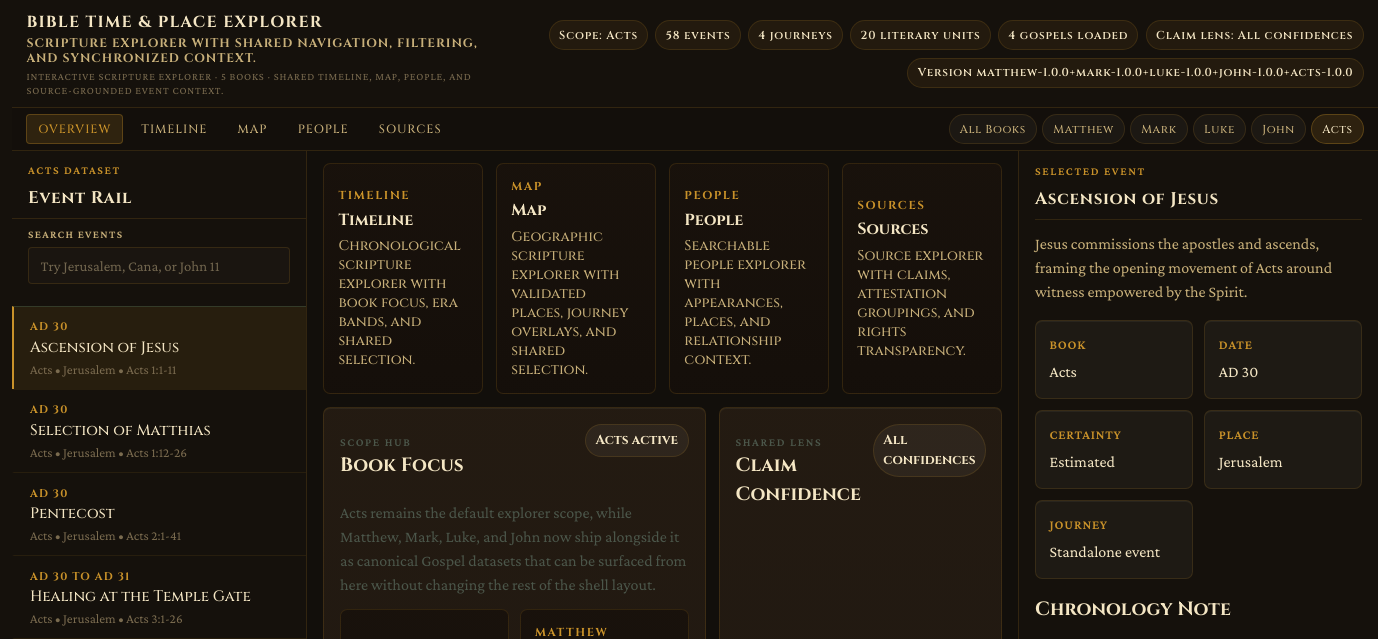
Scenario: App › filters the event rail by location and keeps filtering deterministic
The image size is (1378, 639).
Type "Malta" into the search field labelled "Search events". click: (159, 266)
box: [28,247,290,284]
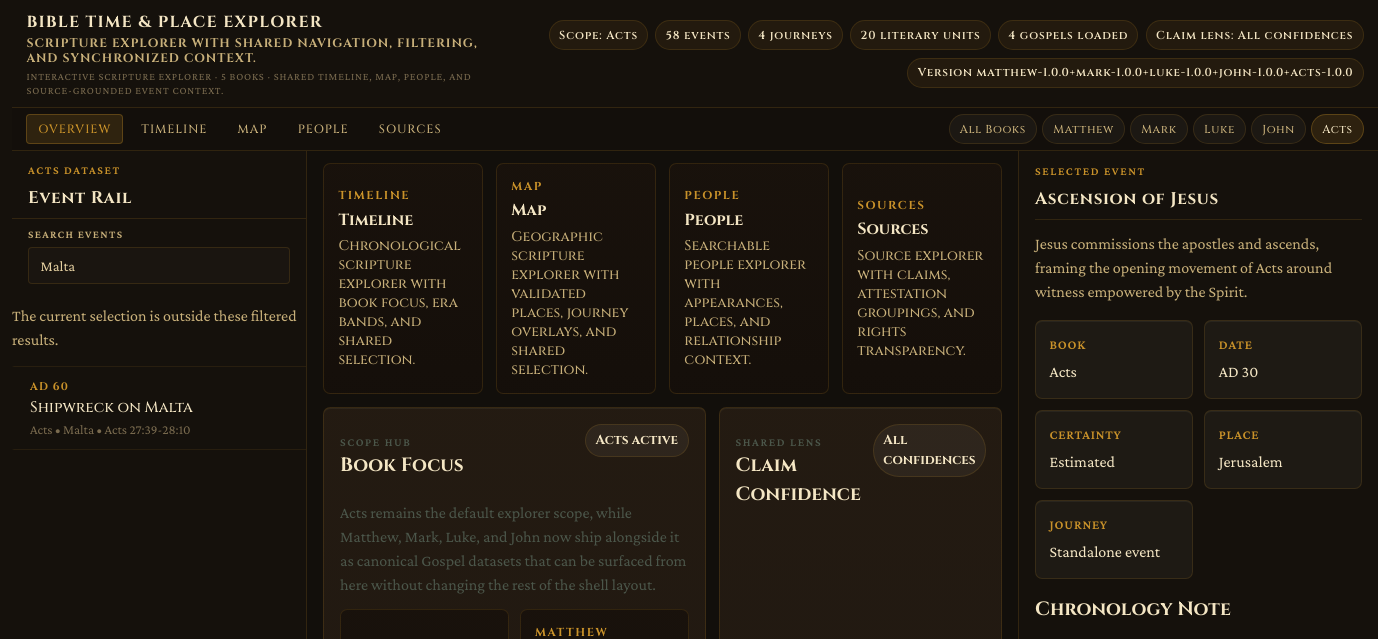
Expected: the button "AD 60 Shipwreck on Malta Acts • Malta • Acts 27:39-28:10" is shown, [12,366,306,450]
